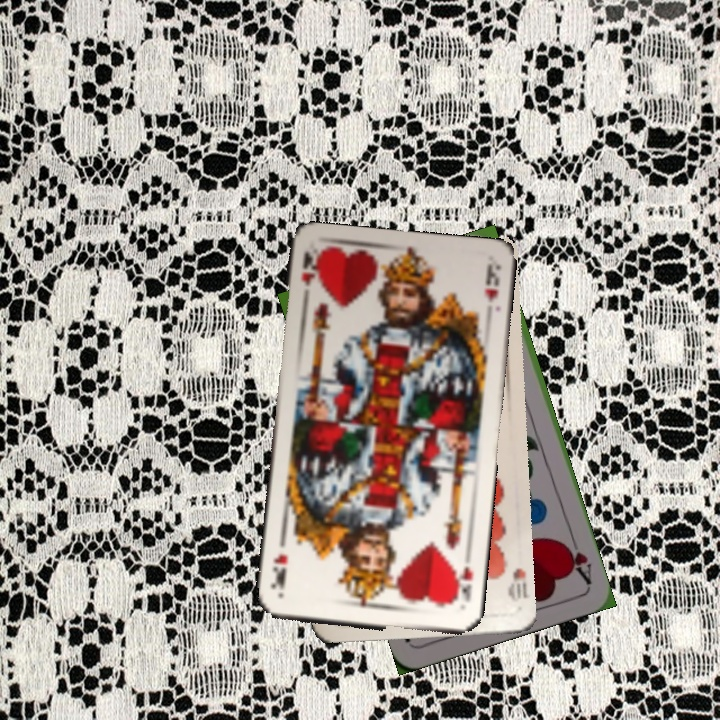H10: (503, 564, 529, 604)
HA: (559, 530, 595, 587)
HK: (297, 247, 321, 306), (448, 561, 475, 607)
